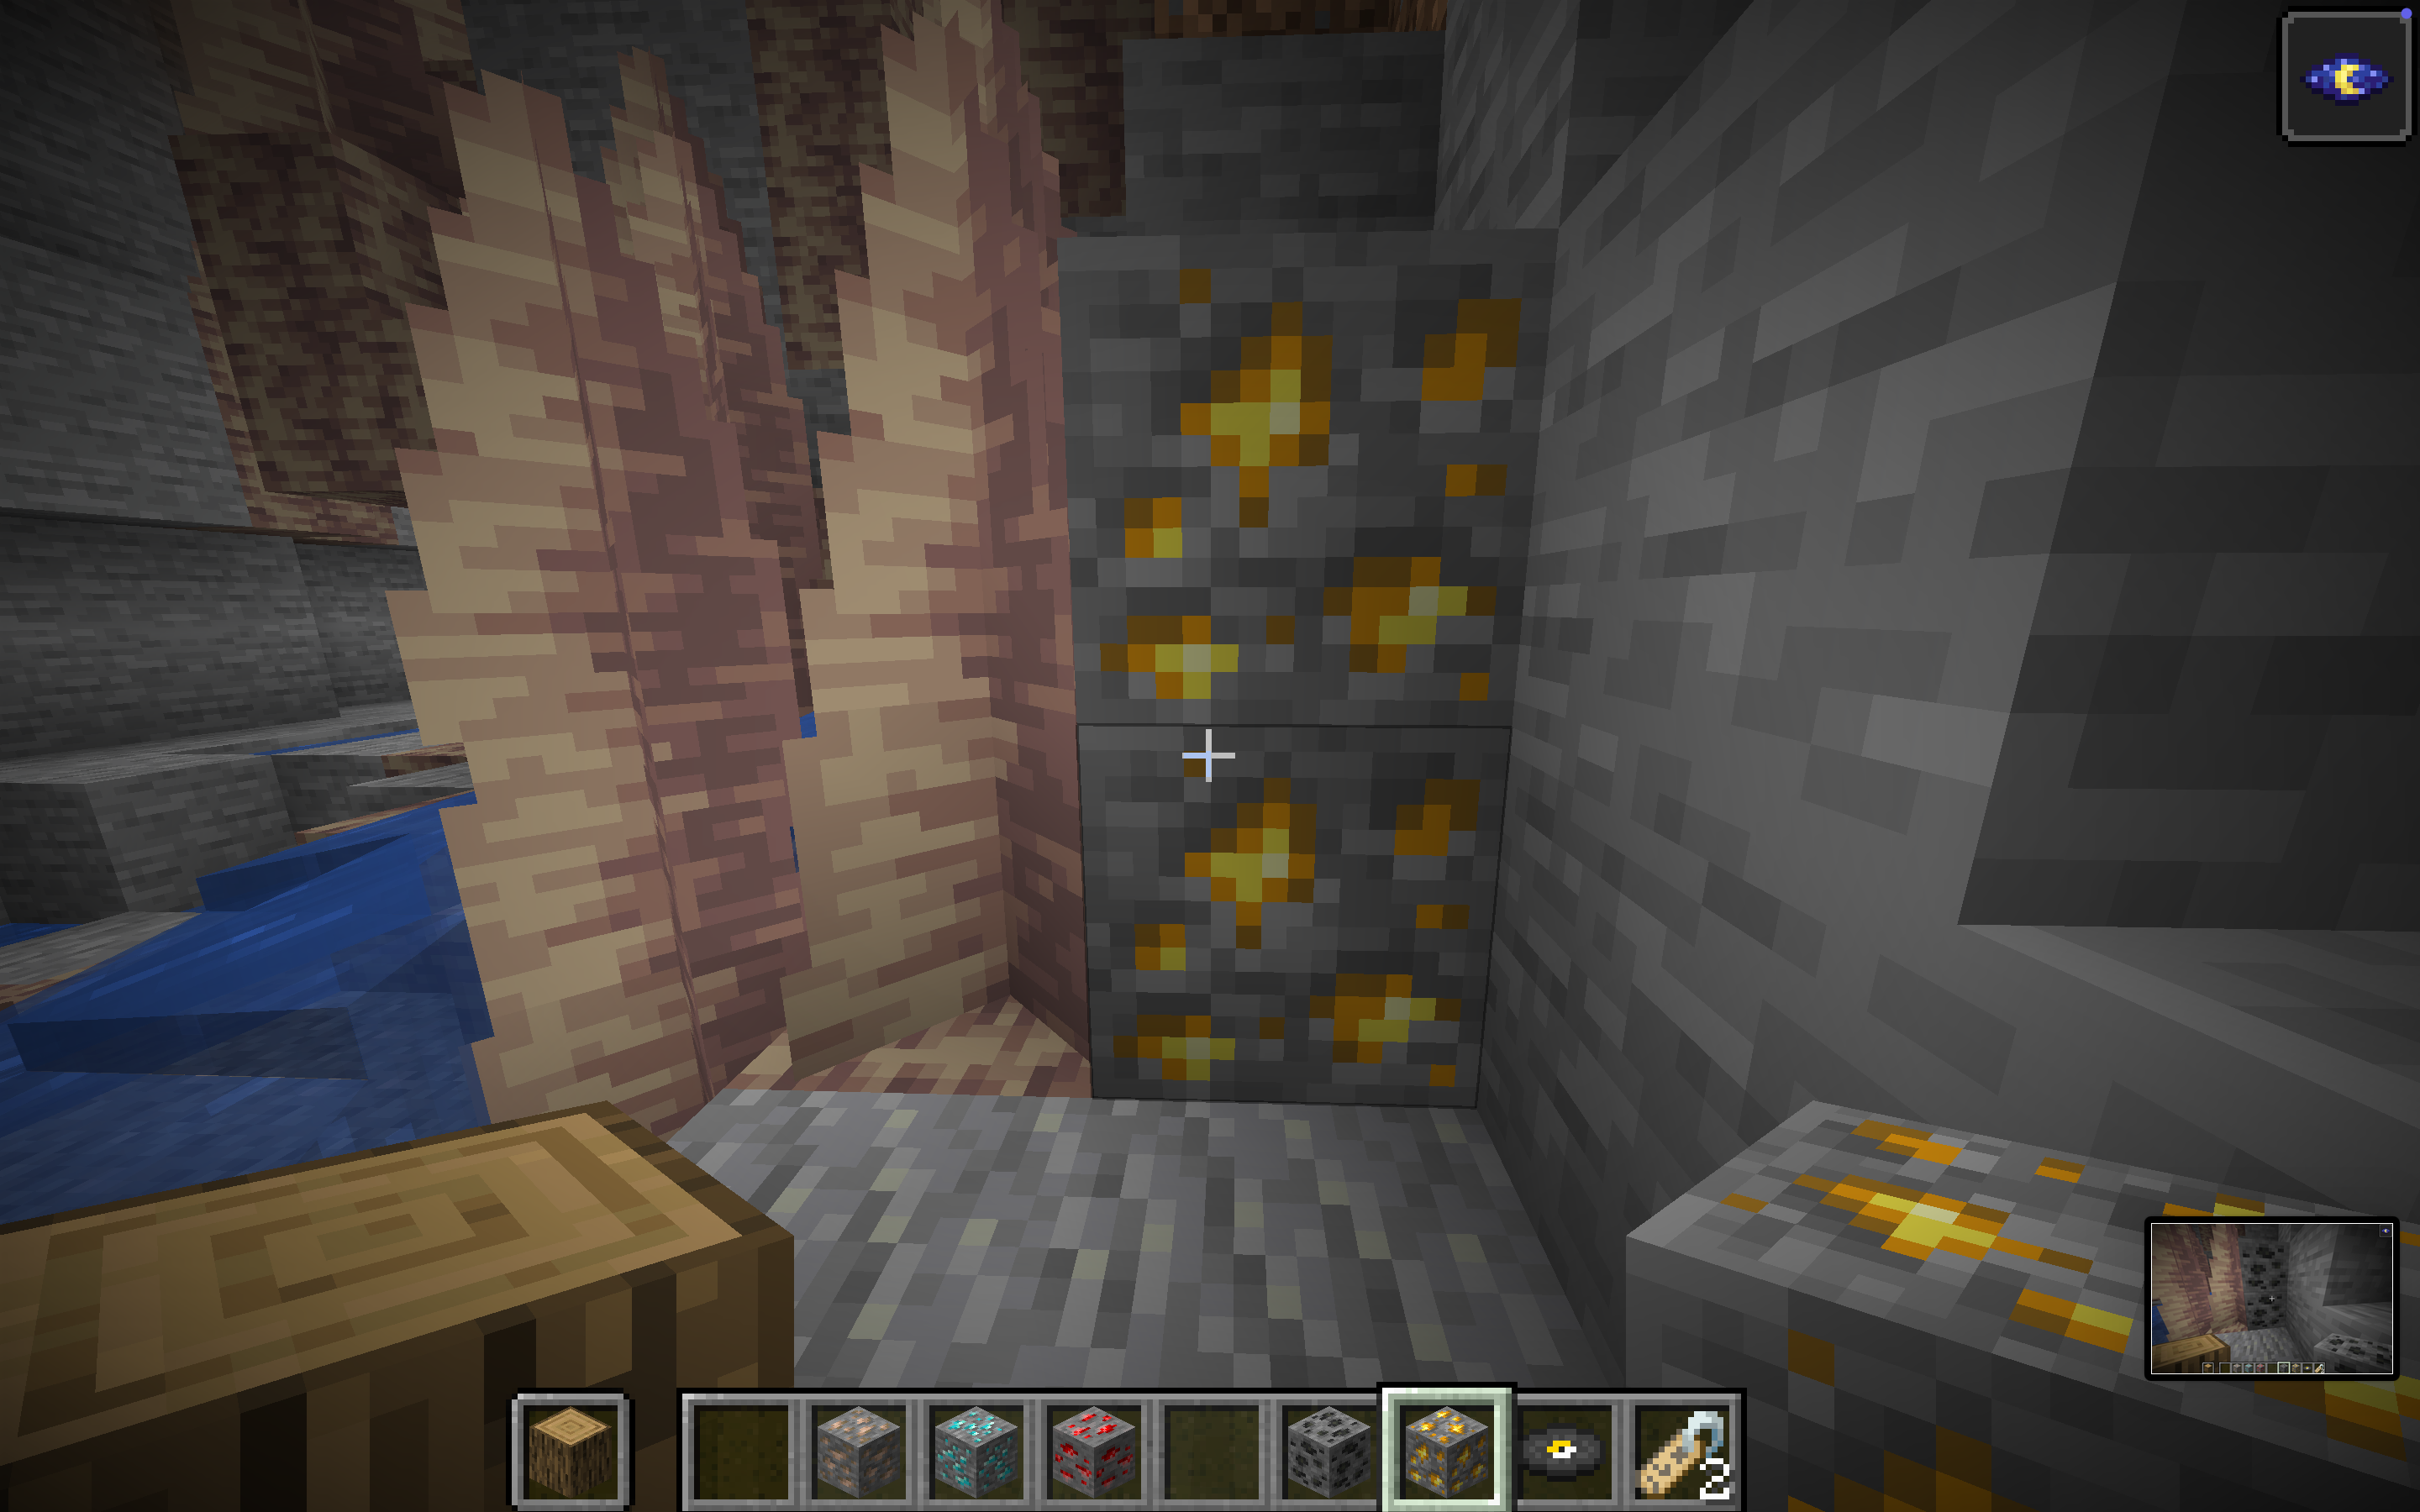gold: (467, 113, 1756, 1141)
